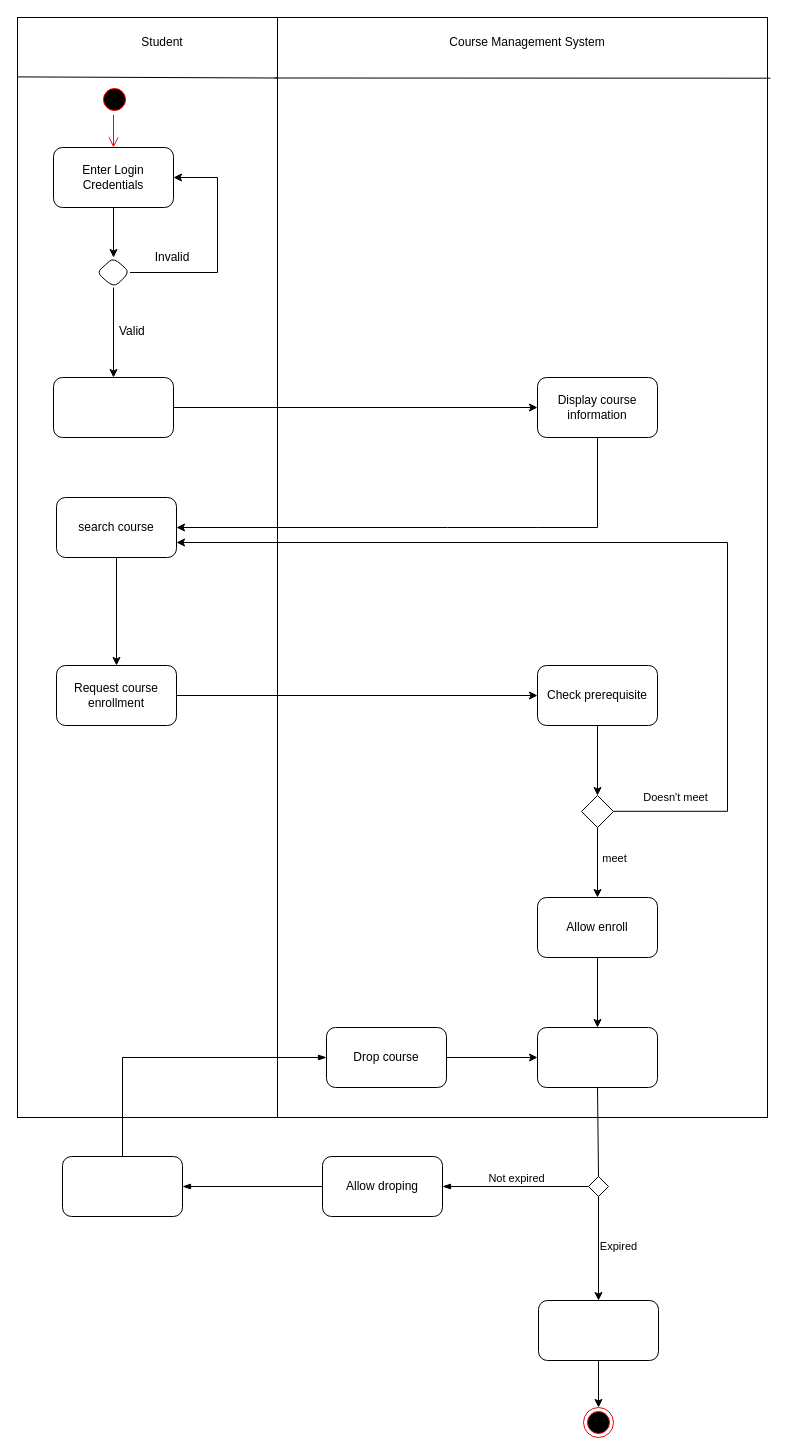
The diagram is 790 pixels wide and 1455 high, and some of its shapes have lost their labels. Here are the shapes that lost their labels. From the top down, the centre of each, then its label:
point 113,407: Request course catalog
point 597,1057: Check Time
point 122,1186: Request to drop course
point 598,1330: Complete enrollment
